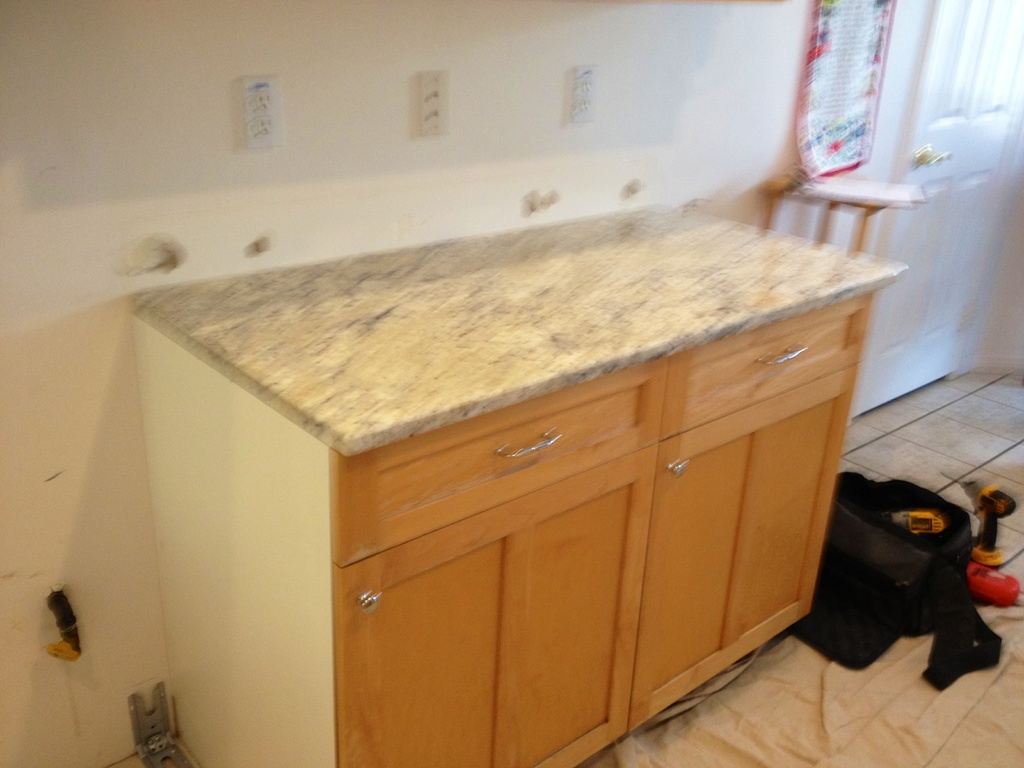cabinet door: (348, 534, 610, 754), (673, 421, 812, 620), (370, 434, 642, 478), (690, 342, 855, 393)
handle: (497, 423, 558, 465), (751, 340, 811, 372), (667, 444, 694, 480), (360, 589, 386, 615)
